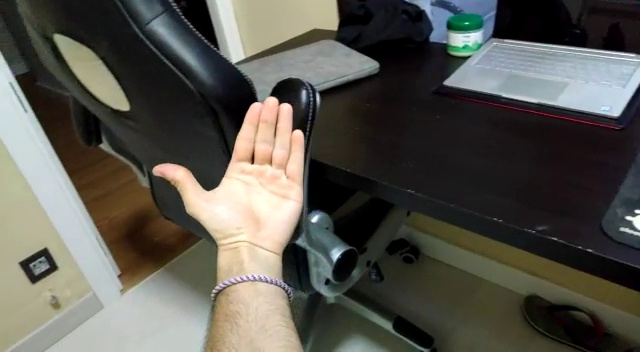Palm: (149, 95, 312, 258)
